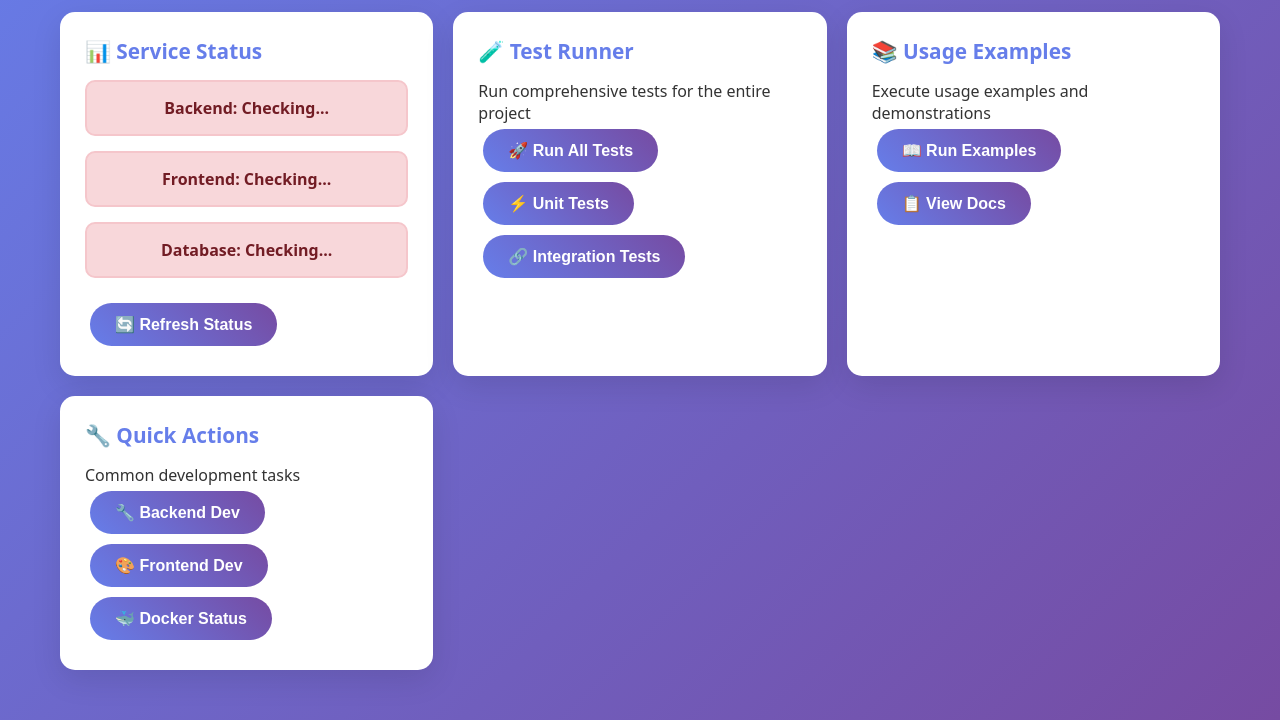
Test: 🏓 Pong Game Project - Tester Interface E2E Tests › should show Docker status
The width and height of the screenshot is (1280, 720).
(page scrolled)
Note: Click Docker status button
Click the button "🐳 Docker Status": {"x": 181, "y": 619} [90,597,272,640]
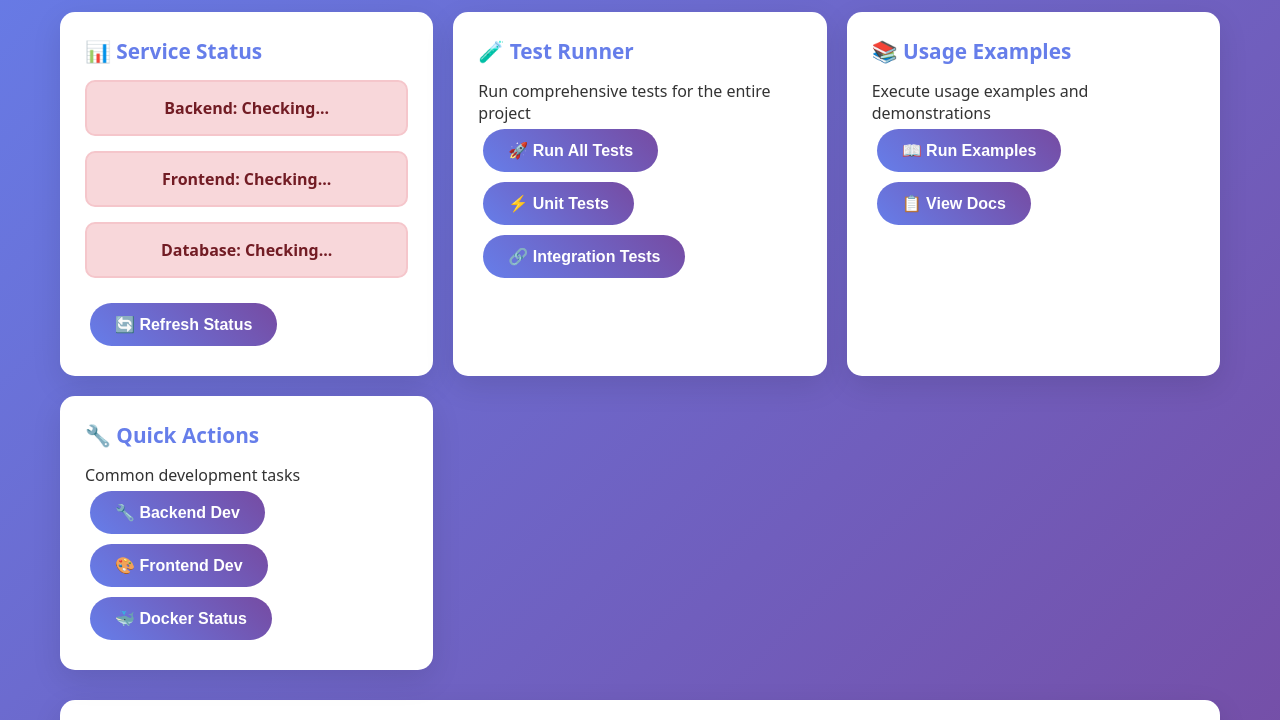
Result: the element with id "test-results" is shown at [60,700,1220,719]
